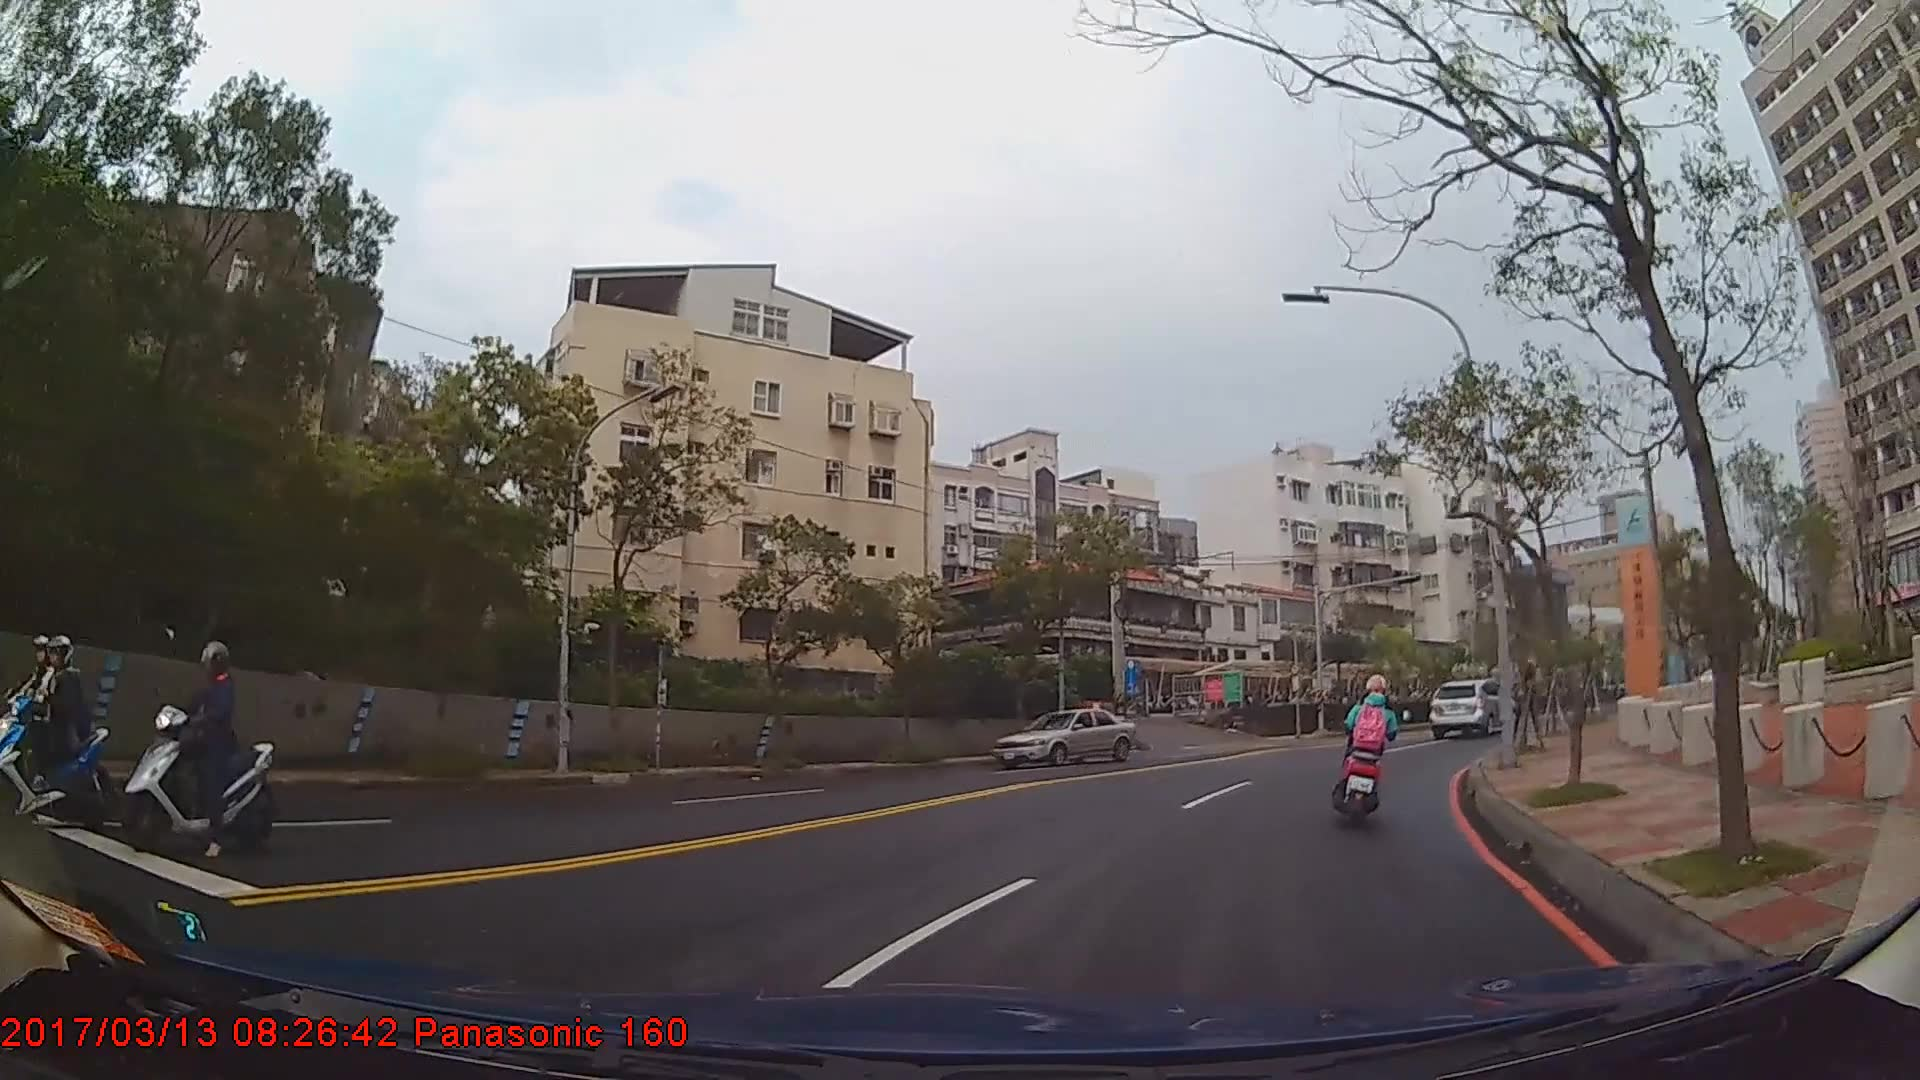rider: (129, 629, 272, 853), (7, 630, 109, 828), (1338, 671, 1403, 810)
vehicle: (991, 707, 1135, 766), (1427, 674, 1518, 736)
